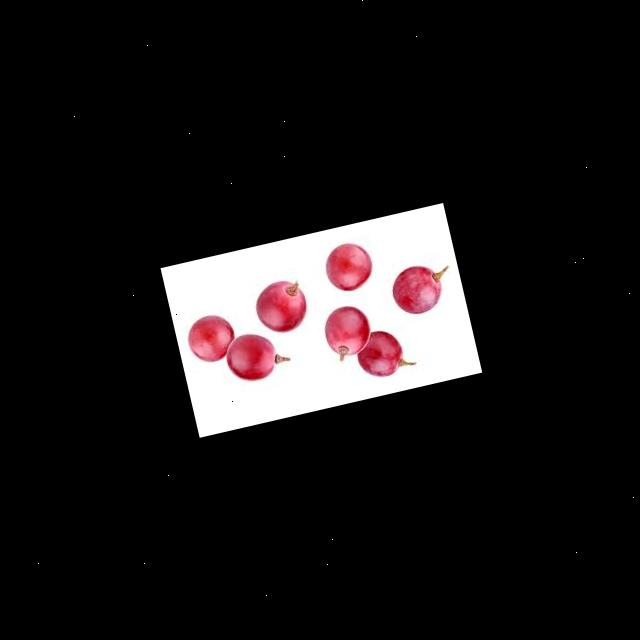grape: (387, 258, 458, 320), (221, 326, 293, 386), (352, 323, 418, 382), (250, 276, 311, 338), (319, 302, 376, 364), (320, 239, 377, 296), (183, 310, 239, 366)
